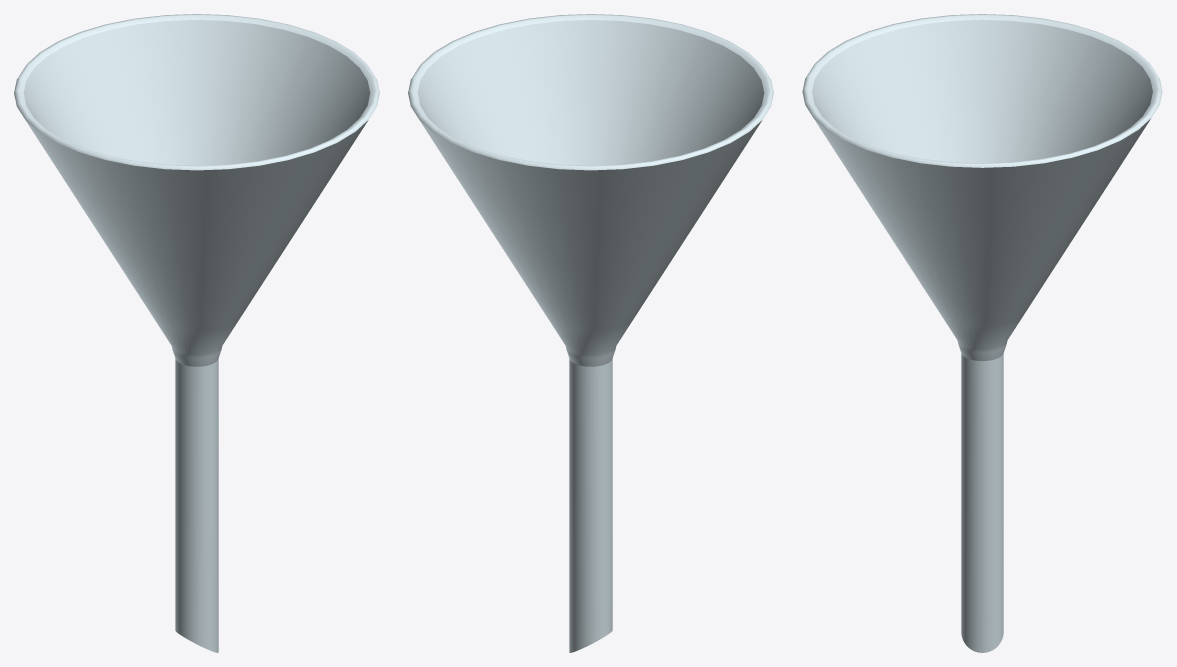
File: cc0_-_funnel_3.glb
3 views of the same model, side by side, from view 1: azimuth 30°, elevation 25°; view 2: azimuth 150°, elevation 25°; view 3: azimuth 270°, elevation 25° (orthographic).
Parts seen in each view (by area): view 1: Funnel3; view 2: Funnel3; view 3: Funnel3.
Part boxes in pixels (x1=…): Funnel3: x1=14, y1=14, x2=379, y2=652; Funnel3: x1=408, y1=14, x2=773, y2=652; Funnel3: x1=802, y1=14, x2=1162, y2=652.
Size of the model in its own units: 0.0595 by 0.1011 by 0.0595.
1 material, 1 textured.
